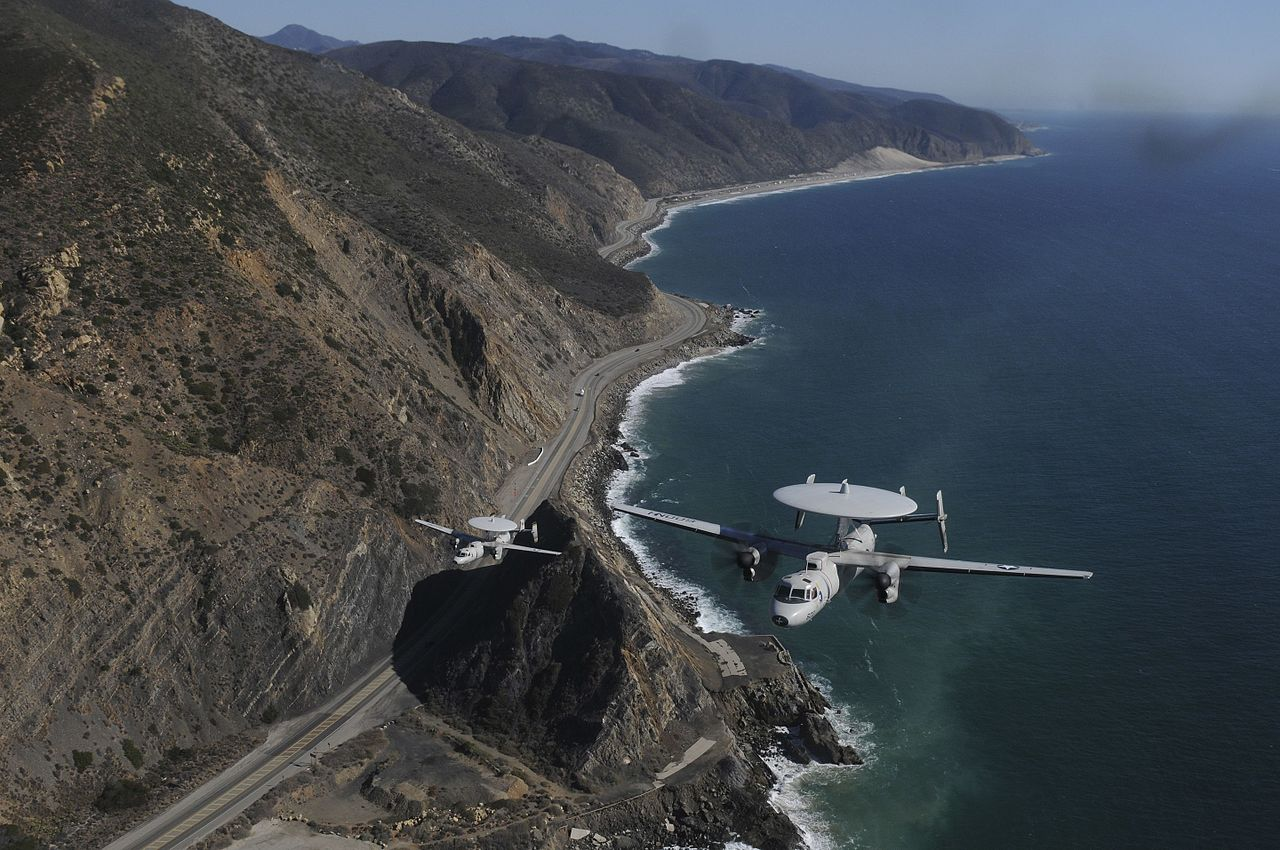E2: (612, 473, 1093, 629), (414, 513, 562, 568)
